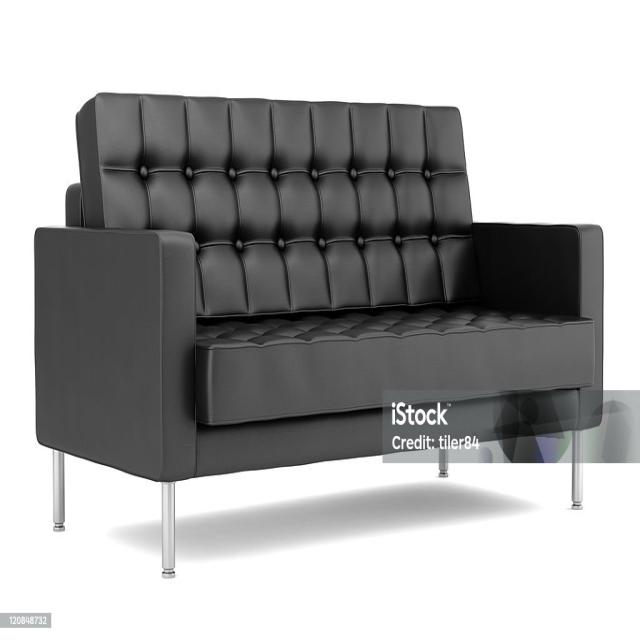back_cushion: (78, 94, 479, 314)
base: (196, 390, 578, 476)
left_arm: (473, 223, 602, 388)
legs: (162, 483, 174, 577), (53, 450, 64, 531), (572, 432, 582, 509), (439, 449, 448, 476)
right_arm: (35, 228, 196, 480)
seat_cushion: (196, 306, 594, 426)
stallion-sofa: (0, 0, 639, 639)
